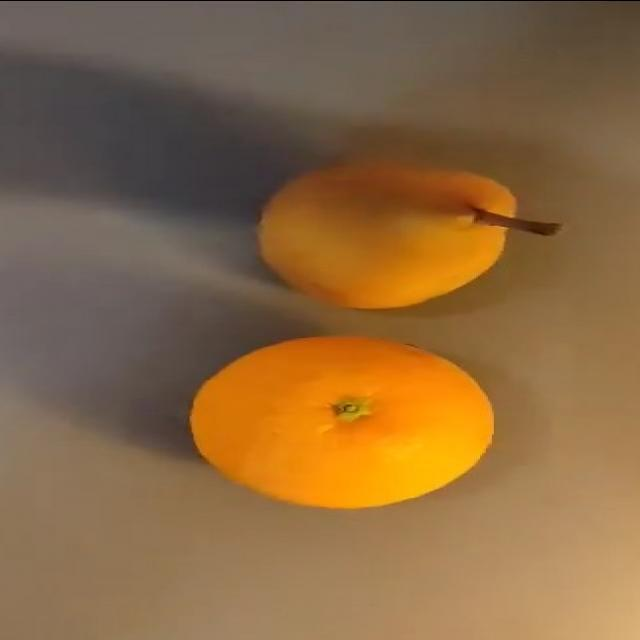Orange: (183, 328, 498, 511)
